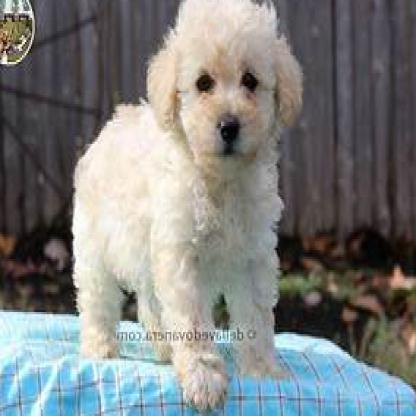dog: (69, 0, 305, 412)
